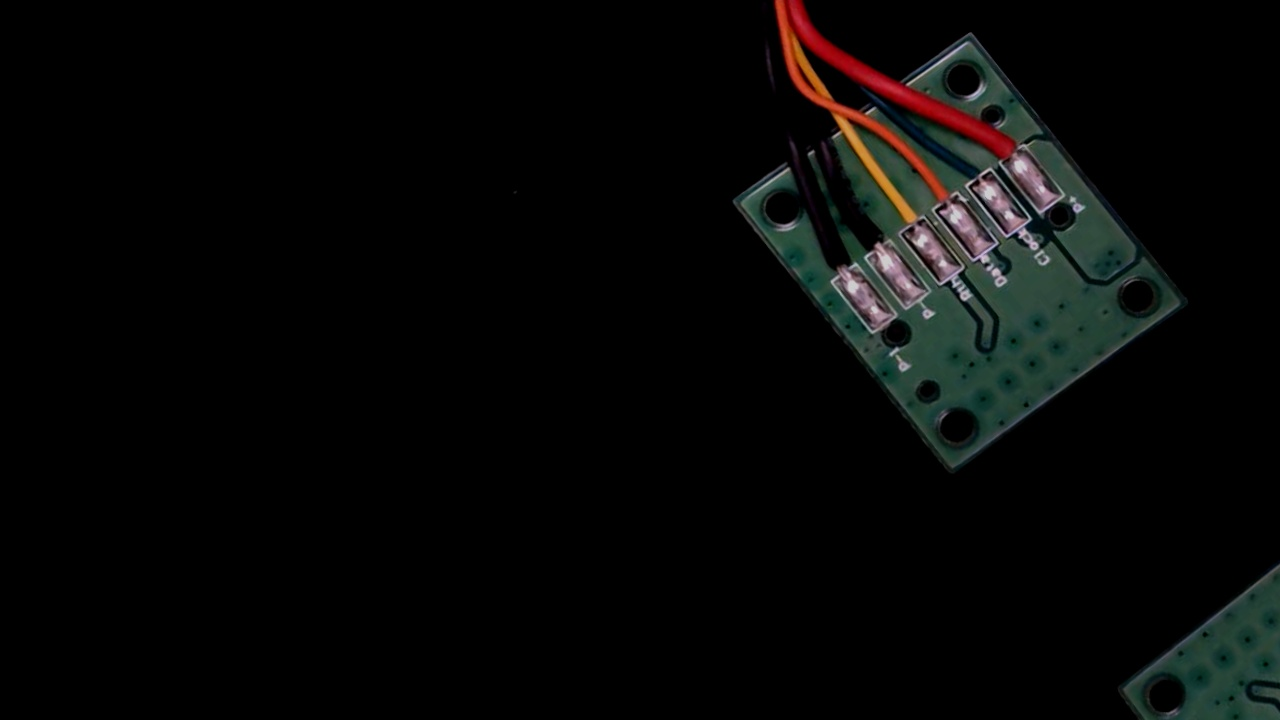Black: (828, 192, 905, 274)
Black1: (797, 224, 870, 301)
Green: (939, 136, 1008, 207)
Orange: (899, 150, 973, 229)
Red: (964, 104, 1038, 182)
Yellow: (859, 171, 937, 253)
